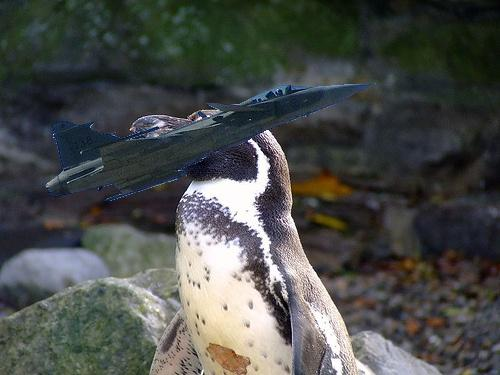tampered: (46, 83, 377, 201)
